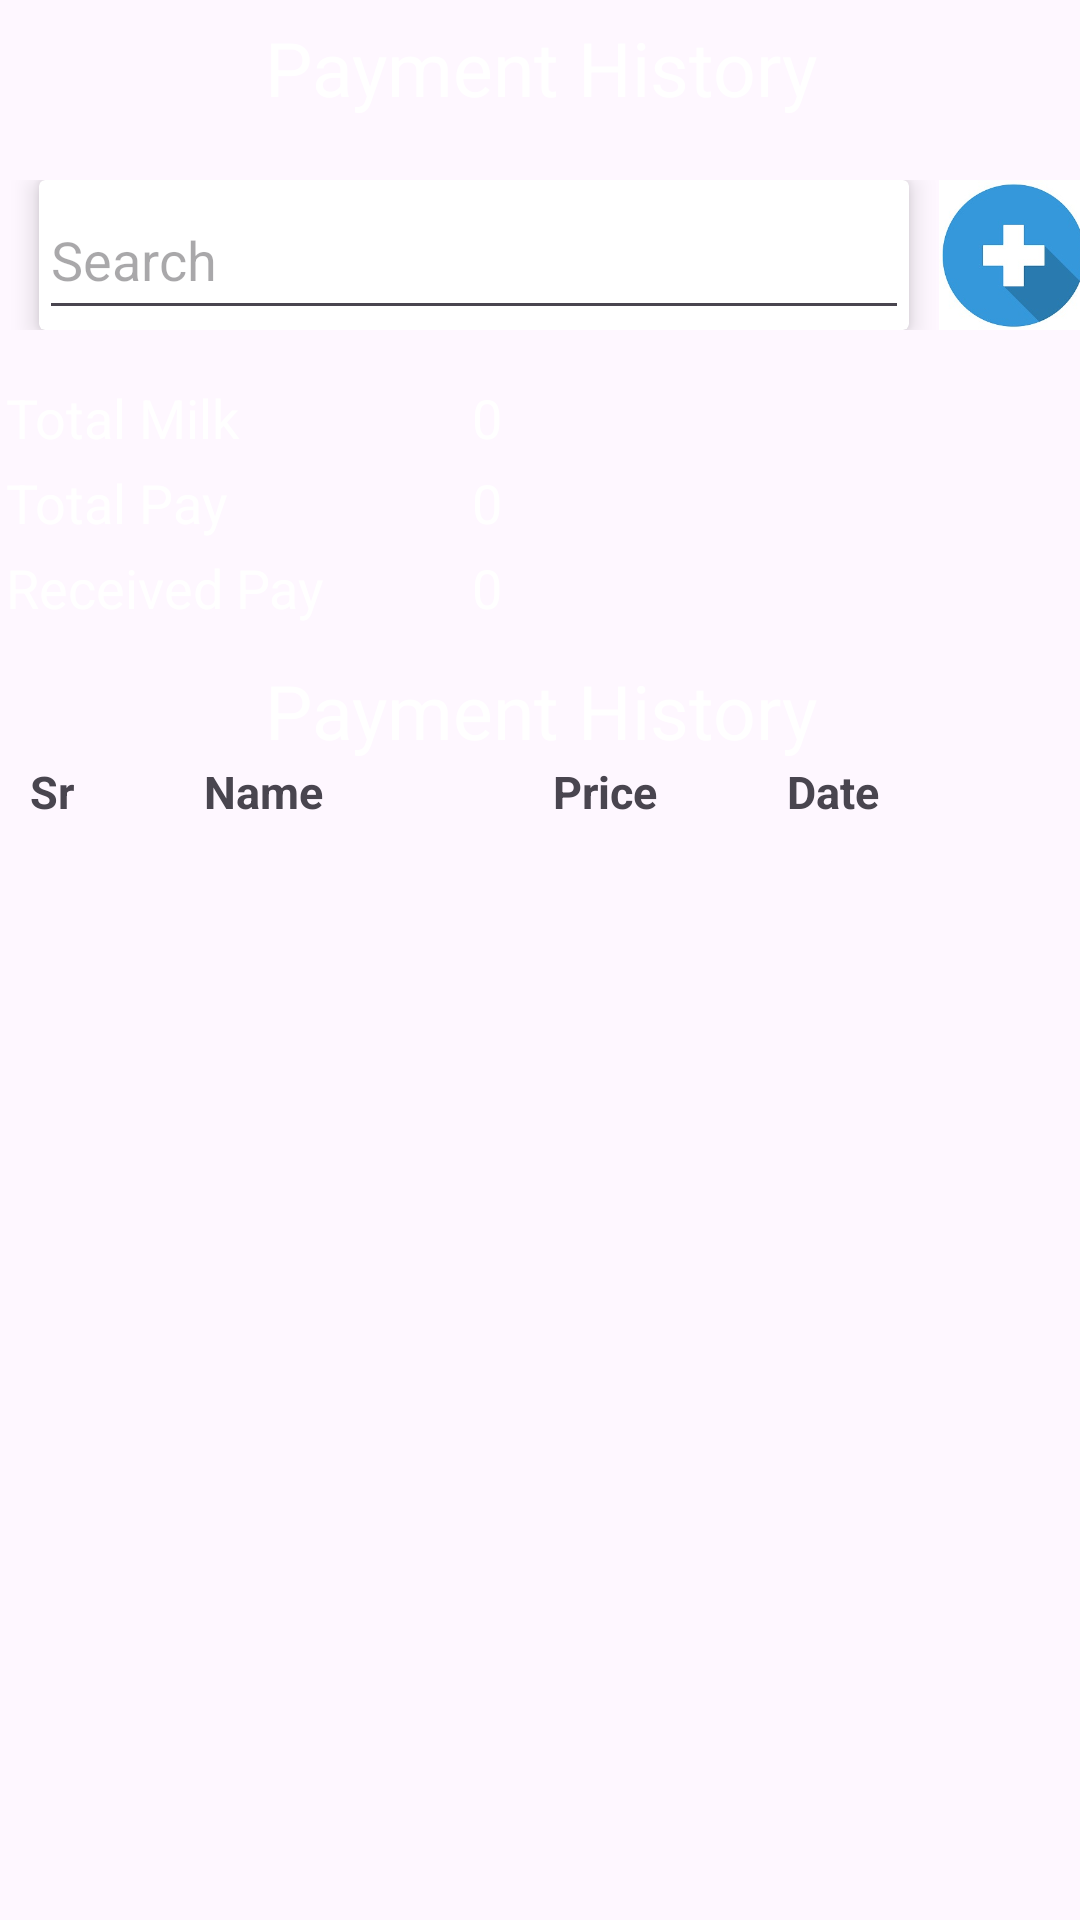

Icon bounding boxes for this 1080px x 1920px phone screenshot, format [x1, y1, x2, y2]:
add: [942, 184, 1080, 327]
